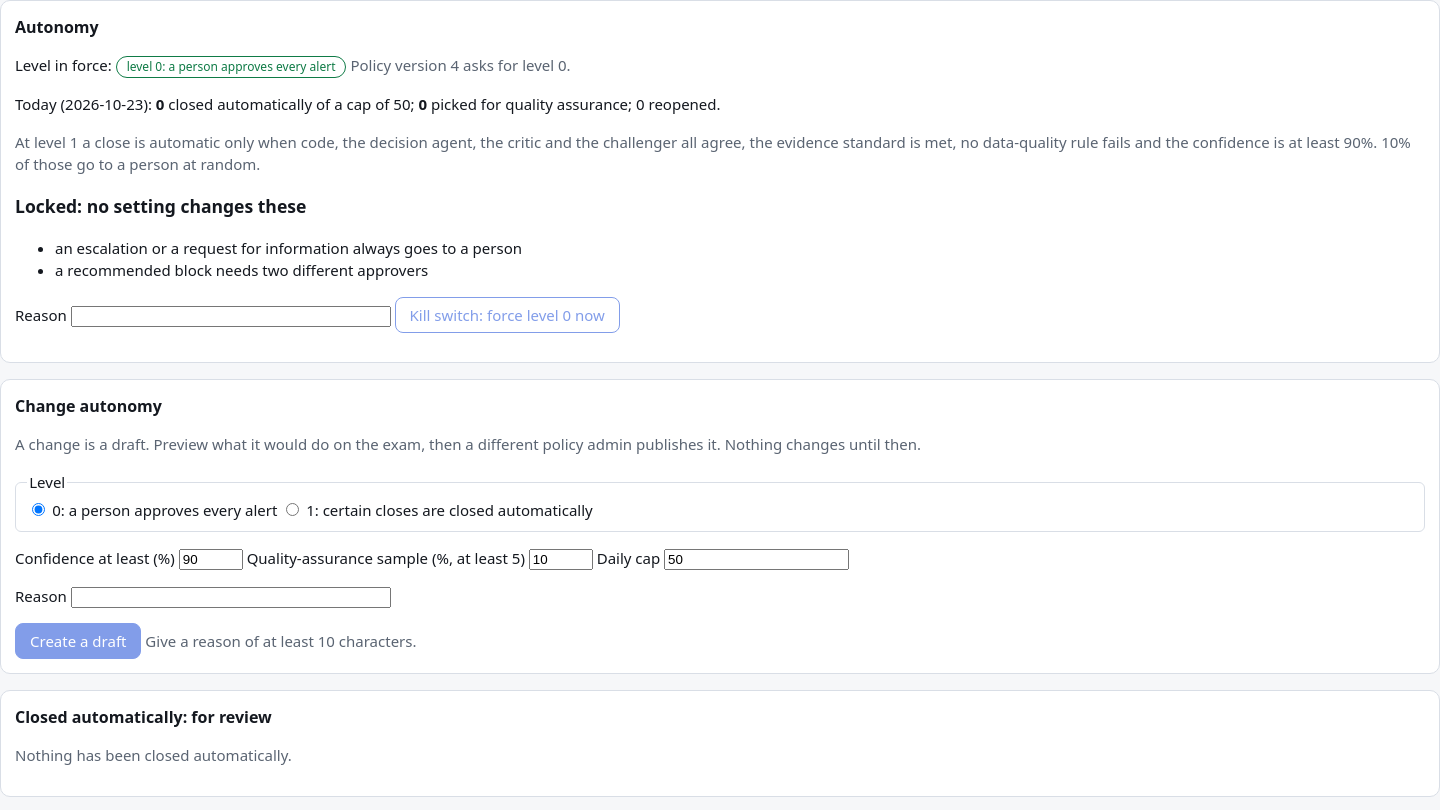
Scenario: changing autonomy › does not allow a quality-assurance sample below 5 percent, and needs a reason
Replace the text in the number field labelled "Quality-assurance sample (%, at least 5)" with "4" at (561, 559), box [529,548,593,570]
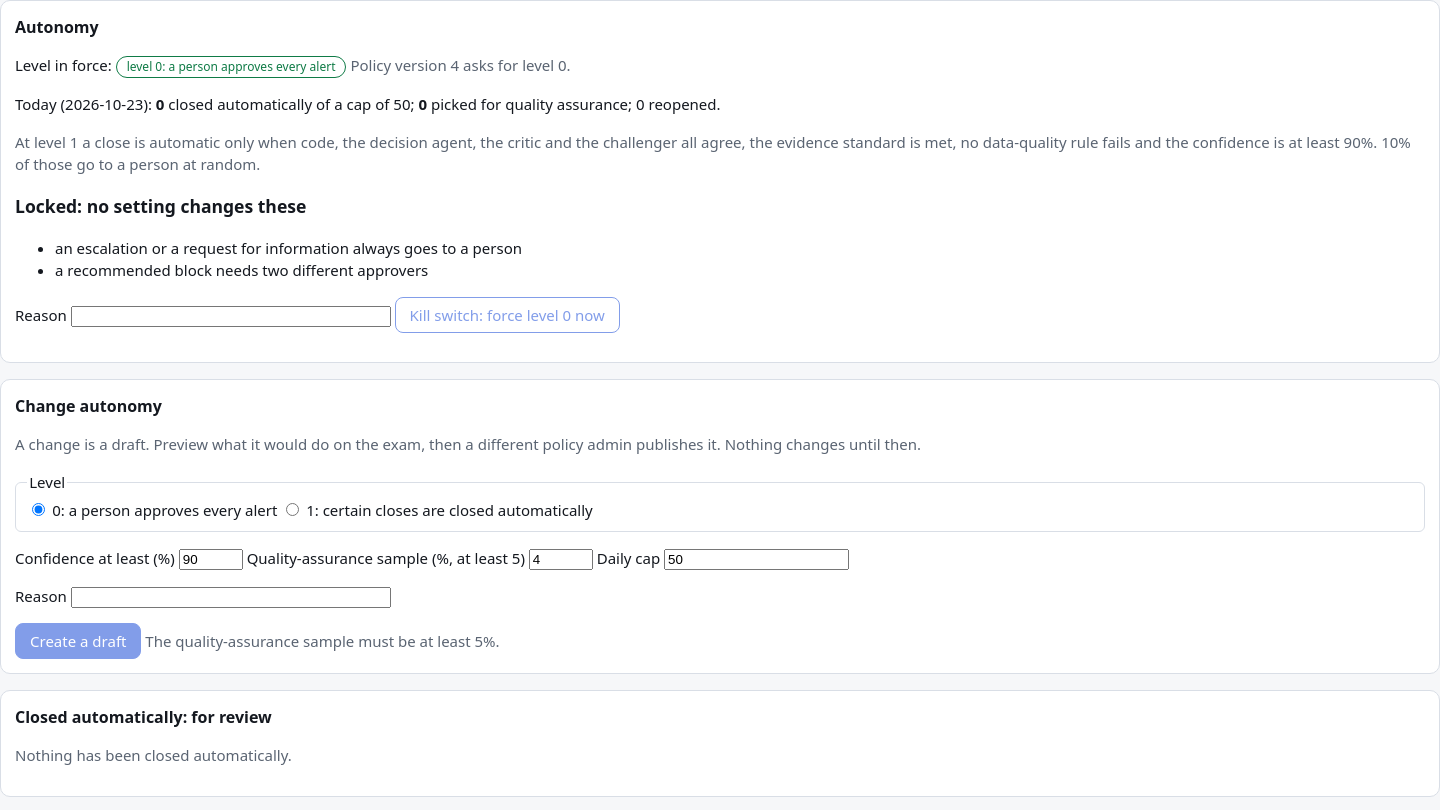
Expected: the button "Create a draft" is disabled, [15,622,142,659]
Expected: the text "The quality-assurance sample must be at least 5%." is shown, [145,630,500,650]
Replace the text in the number field labelled "Quality-assurance sample (%, at least 5)" with "10" at (561, 559), box [529,548,593,570]
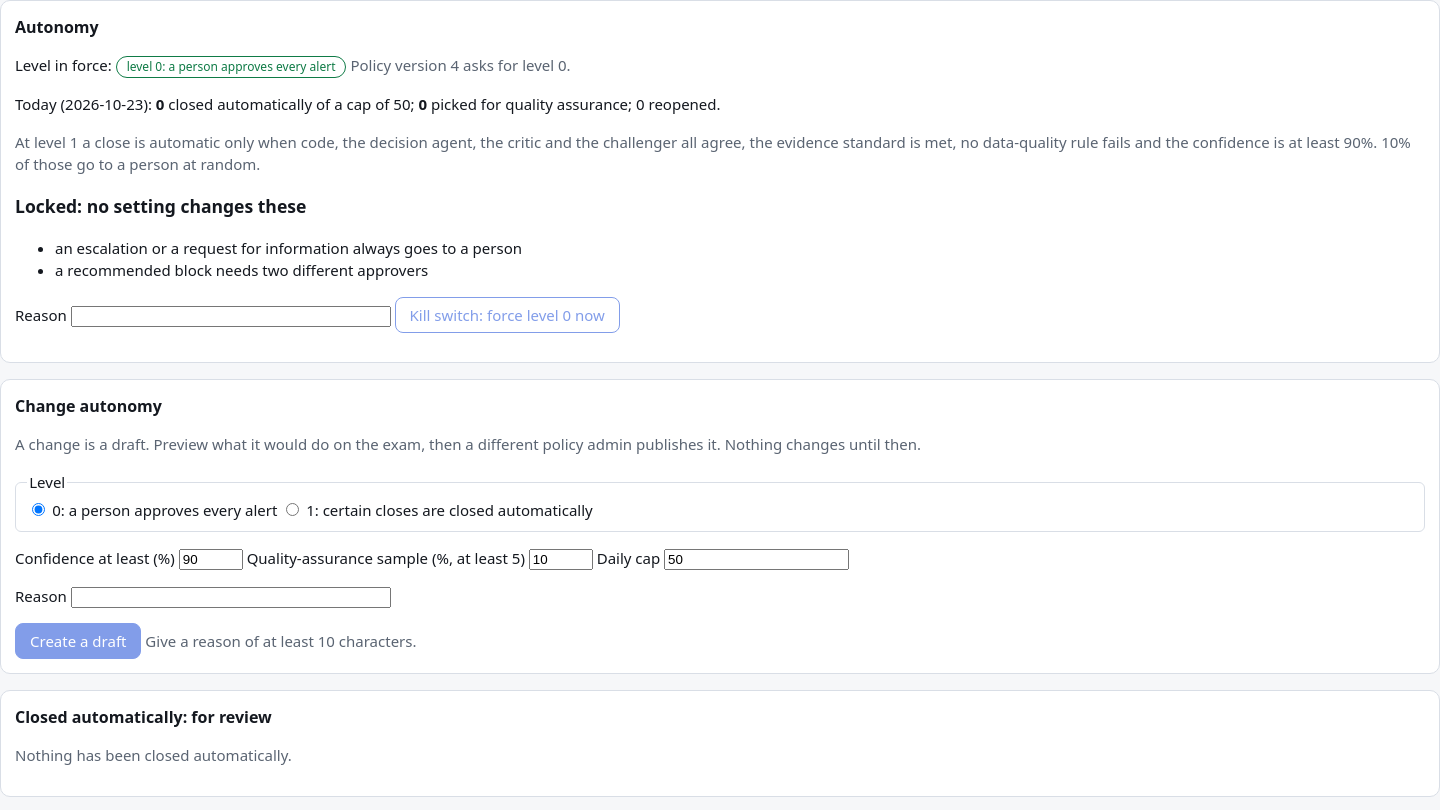
Expected: the button "Create a draft" is disabled, [15,622,142,659]
Type "Try level one on the exam." into the field labelled "Reason" below "Confidence at least (%)" at (231, 597), box [71,586,391,608]
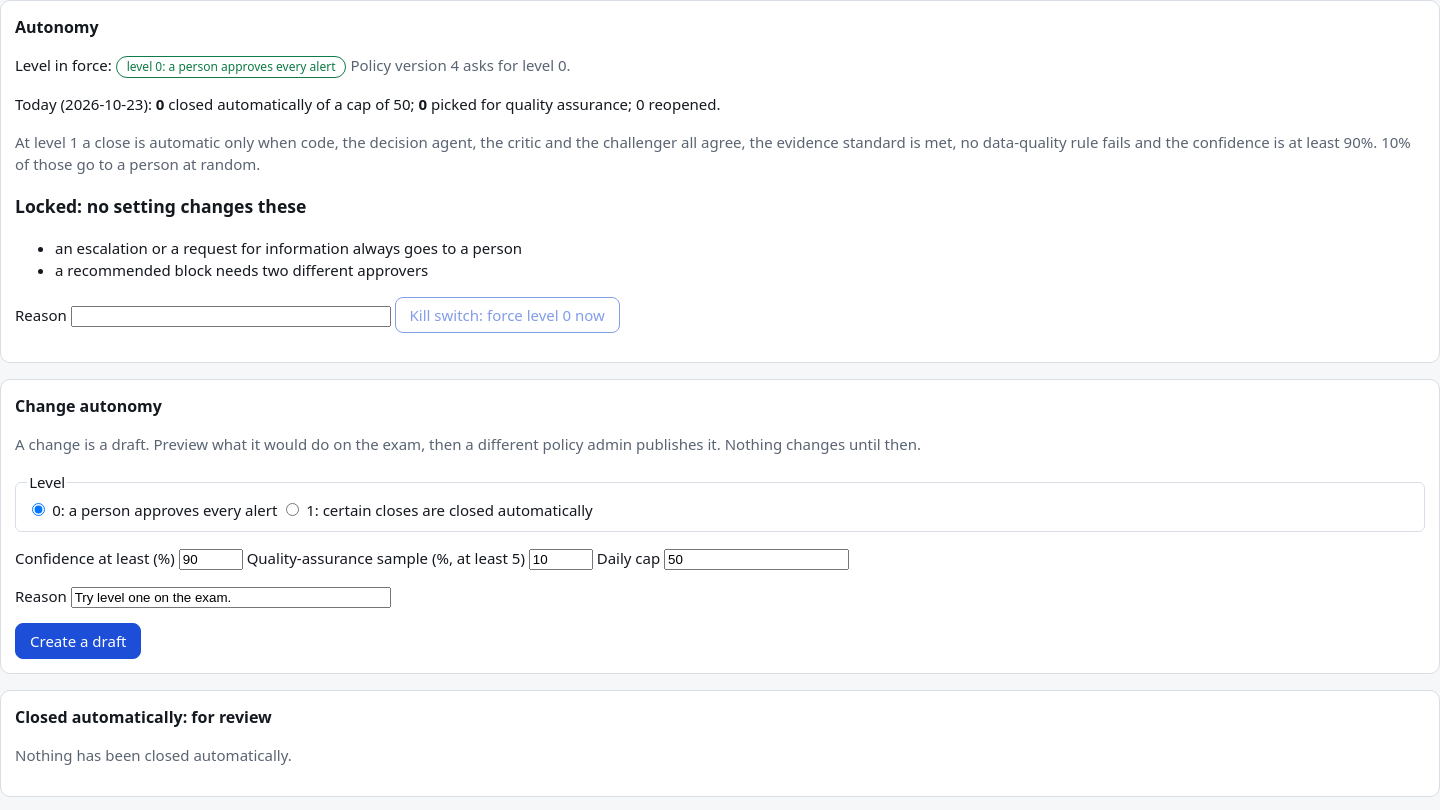
Expected: the button "Create a draft" is enabled, [15,622,142,659]
